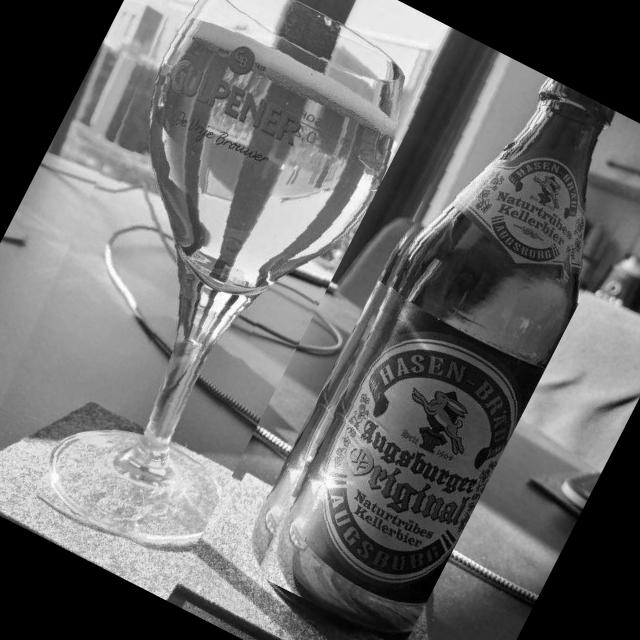Glass: (0, 0, 437, 572), (229, 51, 640, 640)
